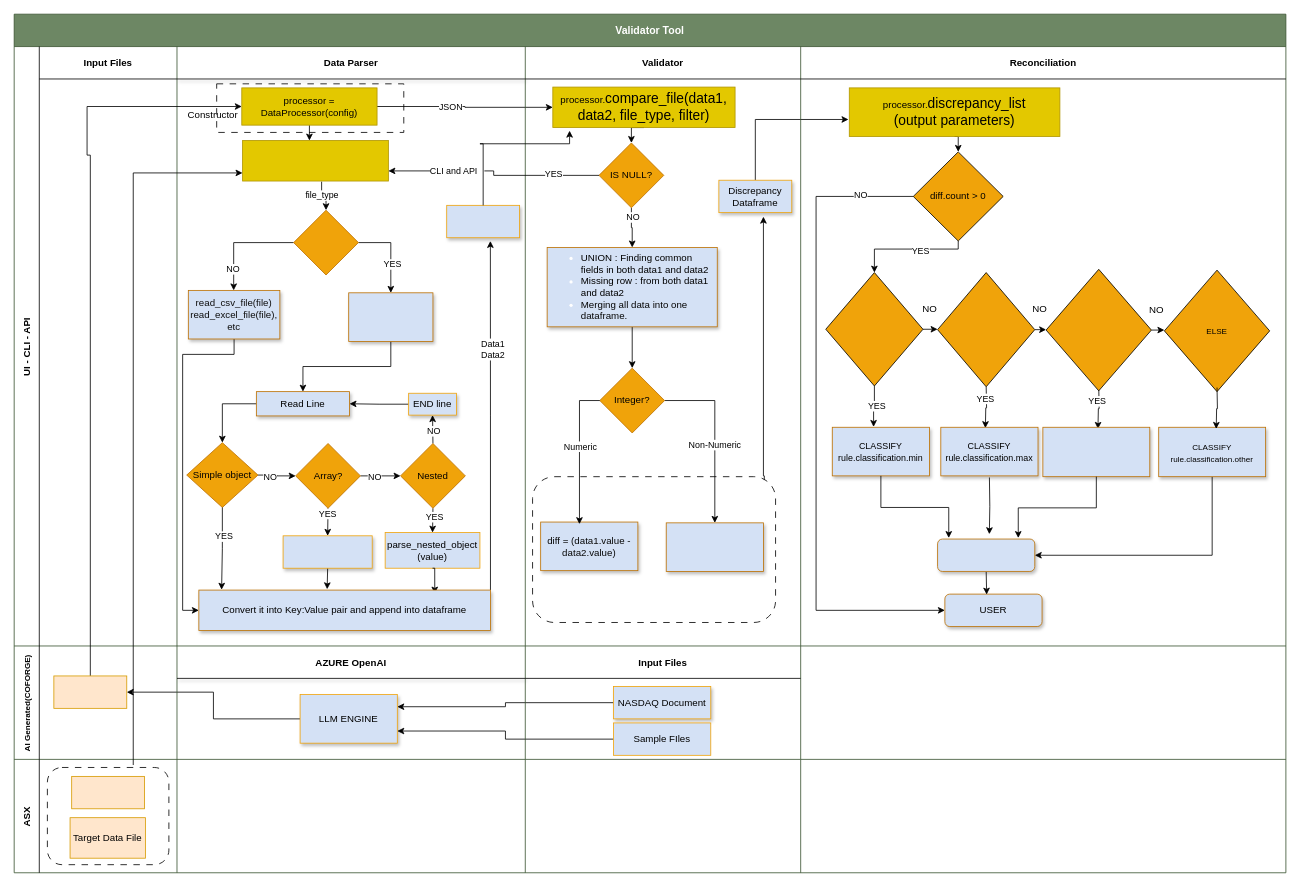
This 1300x893 diagram has some shape labels left out. Here are the shapes that lost their labels. From the top down, the centre of each, then its label:
(315,160): processor.read_file(file, file_type)
(325,242): DD File?
(483,222): Dataframe
(391,318): read_dd_file(file)
(874,329): diff.value <= rule.config.min
(986,329): diff.value >= rule.config.max
(1098,330): rule.config.min < diff.value > rule.config.max
(1097,452): CLASSIFY rule.classification.min_max
(328,553): parse_array(value)
(715,548): diff = (data1.value != data2.value)
(987,556): OUTPUT dataframe
(90,691): Config Files
(108,792): Source Data File
